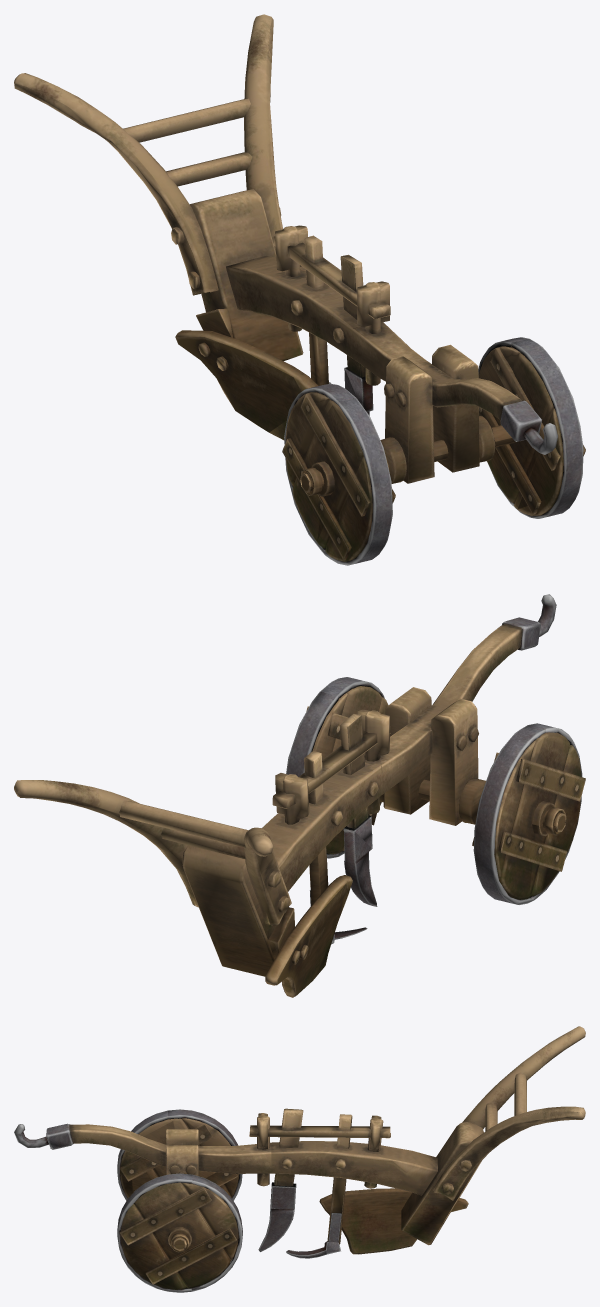
Rendered from plough_wood.glb.
3 views of the same model, one above another, from view 1: azimuth 30°, elevation 25°; view 2: azimuth 150°, elevation 25°; view 3: azimuth 270°, elevation 25° (orthographic). The views are drawn at different scales.
Parts seen in each view (by area): view 1: defaultMaterial; view 2: defaultMaterial; view 3: defaultMaterial.
Boxes of the visible parts, x1,y1,x2,y2 form: defaultMaterial: (14, 14, 585, 565); defaultMaterial: (14, 594, 585, 997); defaultMaterial: (14, 1026, 585, 1292).
Bounding box in the file's own units: 0.4765 × 0.4885 × 1.33.
Materials: 1 (1 with a texture image).
